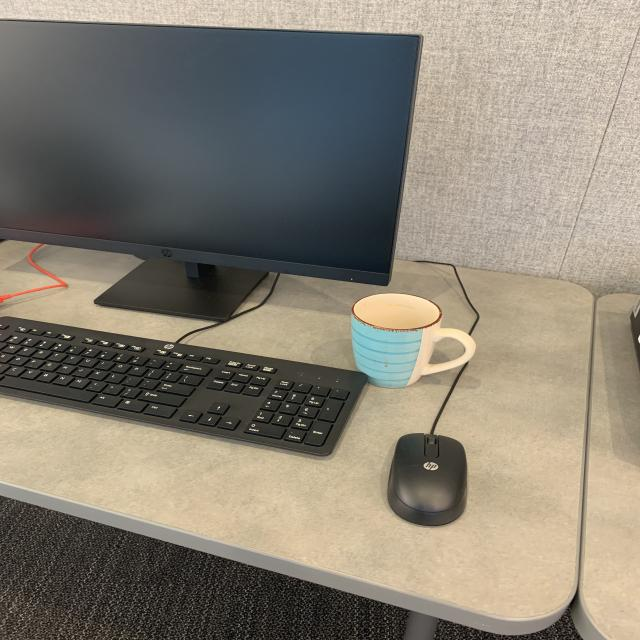Cup: (346, 291, 475, 393)
Mouse: (386, 430, 469, 533)
